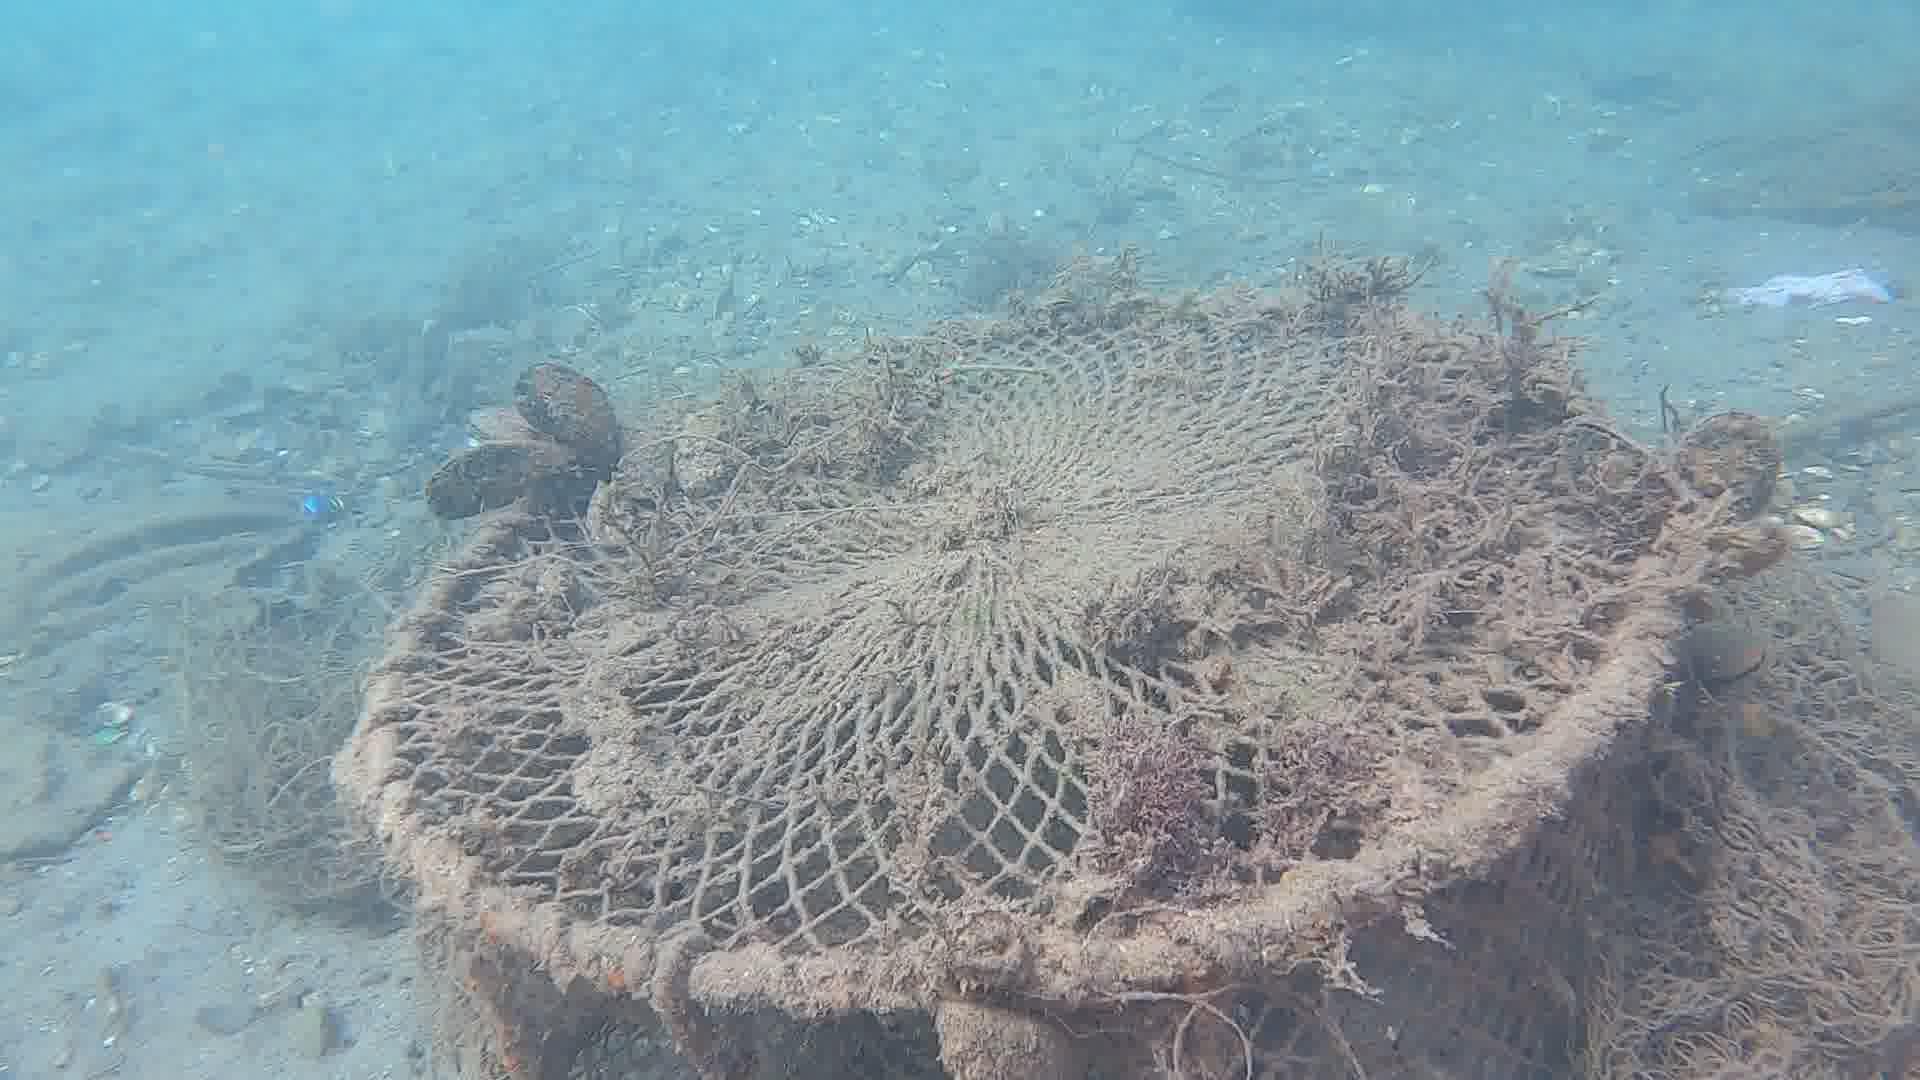circular fish trap: (344, 291, 1713, 1080)
